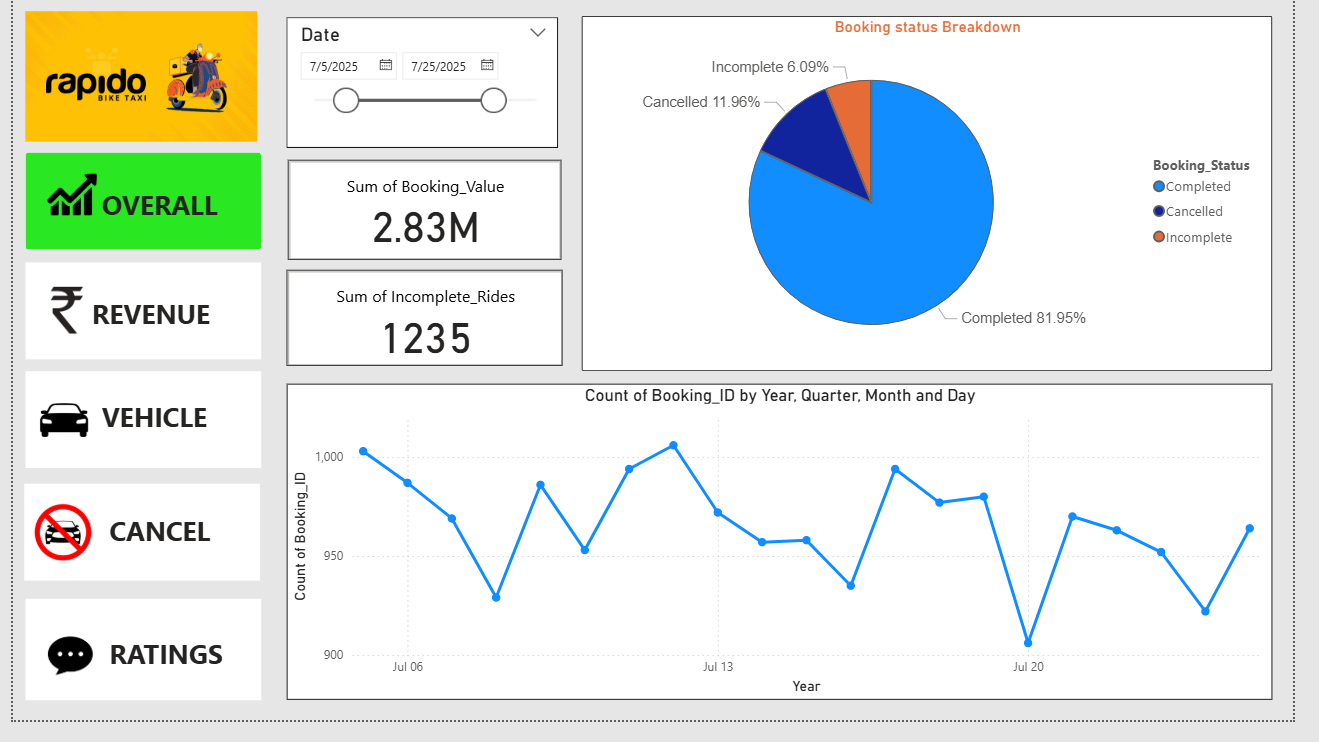

Layout of this report page (visuals, bound fields, positions):
{"tool":"powerbi","page":{"name":"overall","canvas":[1280,720],"ordinal":0},"visuals":[{"type":"shape","box":[0,0,261.2,719.8],"z":0},{"type":"image","box":[7.1,0,241.4,152.9],"z":1000},{"type":"shape","box":[12.9,262.9,235.7,97.1],"z":2000},{"type":"shape","box":[11.4,484.3,235.7,97.1],"z":3000},{"type":"textbox","box":[74.3,290,140,65.7],"z":4000},{"type":"textbox","box":[90.7,507,243,51.2],"z":5000},{"type":"image","box":[10.5,479.1,80.2,107],"z":6000},{"type":"image","box":[18.6,274.3,70,72.9],"z":7000},{"type":"shape","box":[12.9,152.9,235.7,97.1],"z":8000},{"type":"textbox","box":[84.2,181.4,139.3,58],"z":9000},{"type":"image","box":[7.3,61,103,267],"z":10000},{"type":"shape","box":[12.9,598.6,235.7,101.4],"z":11000},{"type":"shape","box":[12.9,371.4,235.7,97.1],"z":12000},{"type":"textbox","box":[91.4,630,155.7,52.9],"z":13000},{"type":"textbox","box":[83.7,394.2,160.5,52.3],"z":14000},{"type":"shape","box":[274.3,17.1,271.4,130],"z":15000},{"type":"image","box":[22.9,614.3,70,84.3],"z":16000},{"type":"image","box":[17.1,382.9,67.1,75.7],"z":17000},{"type":"slicer","fields":{"Values":["rapido_july2025_data.Date"]},"box":[275.6,18.6,270.9,255.8],"z":18000},{"type":"pieChart","title":"Booking status Breakdown","fields":{"Y":["CountNonNull(rapido_july2025_data.Booking_ID)"],"Category":["rapido_july2025_data.Booking_Status"]},"box":[569.2,16.8,690.4,354.2],"z":19000},{"type":"cardVisual","fields":{"Data":["Sum(rapido_july2025_data.Booking_Value)"]},"box":[269.8,154.7,283.7,110.5],"z":20000},{"type":"cardVisual","fields":{"Data":["Sum(rapido_july2025_data.Incomplete_Rides)"]},"box":[268.6,265.1,286,107],"z":21000},{"type":"lineChart","fields":{"Category":["rapido_july2025_data.Date.Variation.Date Hierarchy.Year","rapido_july2025_data.Date.Variation.Date Hierarchy.Quarter","rapido_july2025_data.Date.Variation.Date Hierarchy.Month","rapido_july2025_data.Date.Variation.Date Hierarchy.Day"],"Y":["CountNonNull(rapido_july2025_data.Booking_ID)","select"]},"box":[274.3,383.1,985.4,316.4],"z":22000}]}

Visuals, with their boxes in screenshot pixels (x1, y1, x2, y2), scaled from the page's 1280x720 canvas onto the 1319x742 screenshot:
shape: 0 0 269 741
image: 7 0 256 158
shape: 13 271 256 371
shape: 12 499 255 599
textbox: 77 299 221 367
textbox: 93 522 344 575
image: 11 494 93 604
image: 19 283 91 358
shape: 13 158 256 258
textbox: 87 187 230 247
image: 8 63 114 338
shape: 13 617 256 721
shape: 13 383 256 483
textbox: 94 649 255 704
textbox: 86 406 252 460
shape: 283 18 562 152
image: 24 633 96 720
image: 18 395 87 473
slicer - rapido_july2025_data.Date: 284 19 563 283
"Booking status Breakdown" pieChart: 587 17 1298 382
cardVisual - Sum(rapido_july2025_data.Booking_Value): 278 159 570 273
cardVisual - Sum(rapido_july2025_data.Incomplete_Rides): 277 273 571 383
lineChart - rapido_july2025_data.Date.Variation.Date Hierarchy.Year x rapido_july2025_data.Date.Variation.Date Hierarchy.Quarter: 283 395 1298 721
